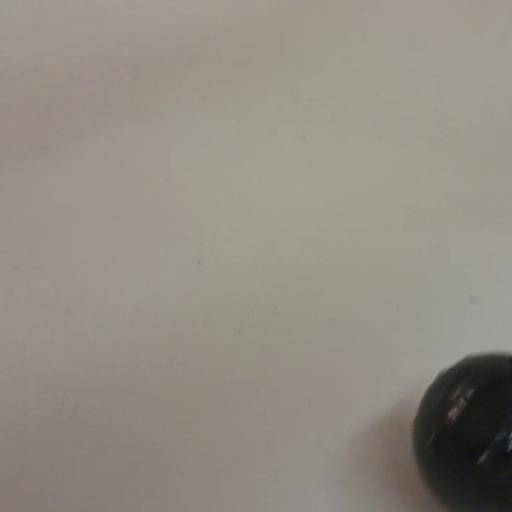dead: (410, 351, 512, 512)
